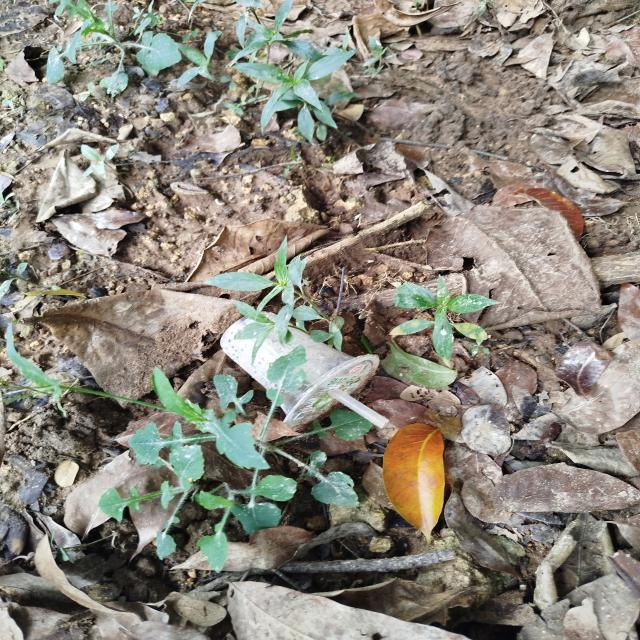plastic: (207, 308, 419, 446)
